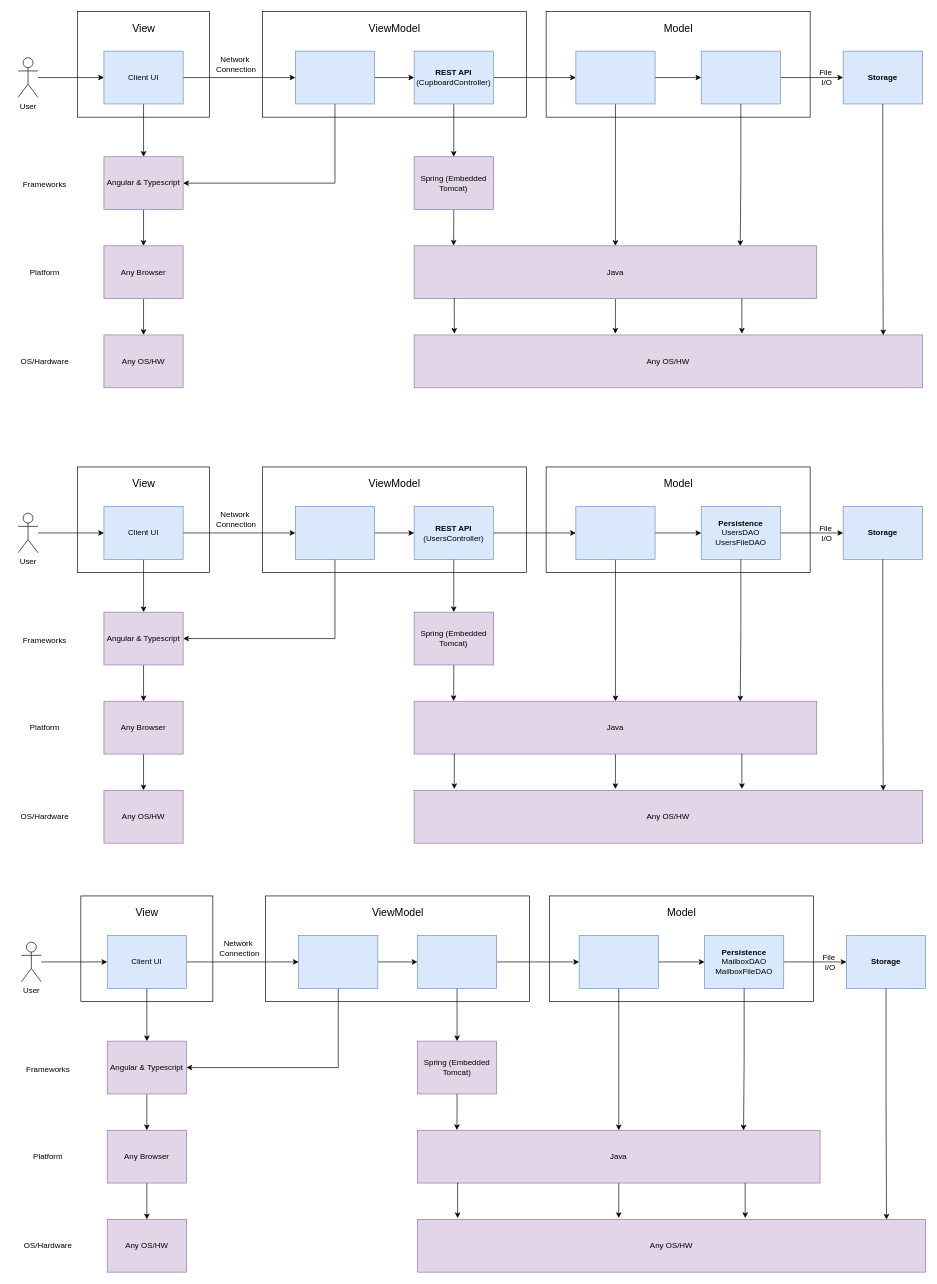
This 937x1284 diagram has some shape labels left out. The shapes that lost their labels are listed below. From the top down, each one's centre as x and y in pixels, then its label:
At pixel 335 77: "Need Service".
At pixel 615 77: "Model Need".
At pixel 740 77: "Persistence CupboardDAO CupboardFileDAO".
At pixel 335 532: "Login Service".
At pixel 615 532: "Model User".
At pixel 338 961: "Request Service".
At pixel 457 961: "REST API (MailboxController)".
At pixel 618 961: "Model HelpRequest".
